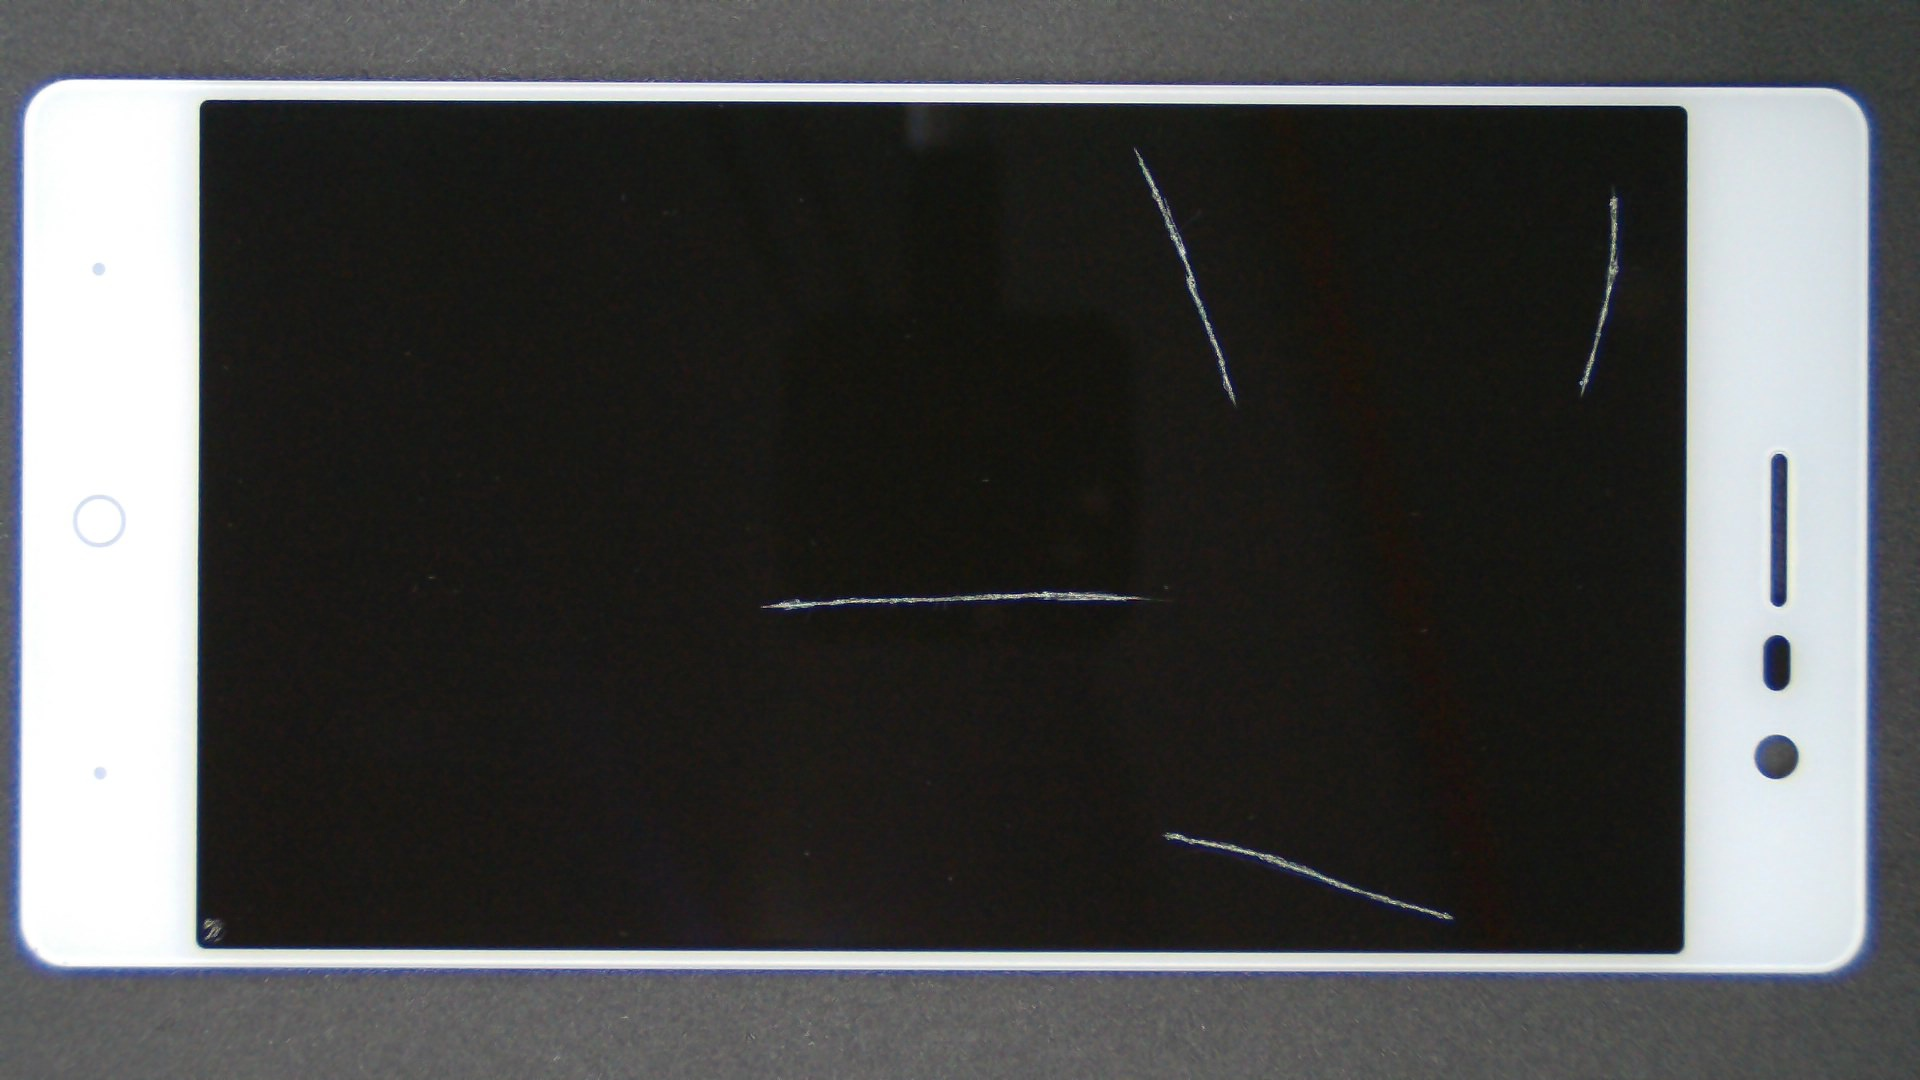oil: (584, 415, 1751, 1080), (518, 295, 1553, 887), (807, 96, 1920, 291), (568, 73, 1702, 219), (104, 458, 311, 1080)
